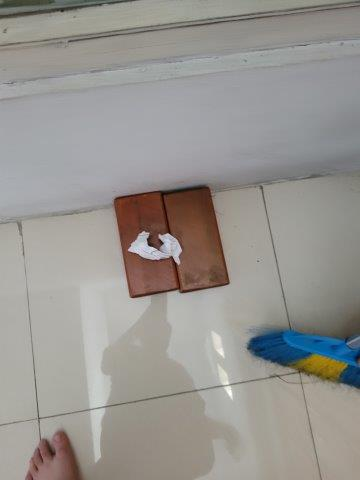kertas: (130, 229, 184, 267)
